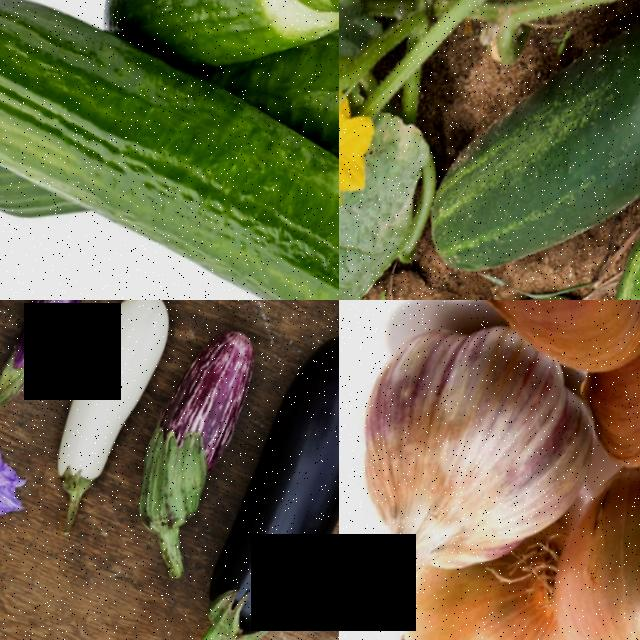cucumber: (0, 0, 339, 300), (398, 0, 640, 300), (77, 0, 339, 108), (274, 0, 339, 216)
eggplant: (168, 320, 339, 640), (20, 300, 193, 513), (118, 320, 274, 525), (0, 300, 105, 407)
garlic: (339, 300, 609, 606), (445, 300, 640, 396), (592, 300, 640, 492)
